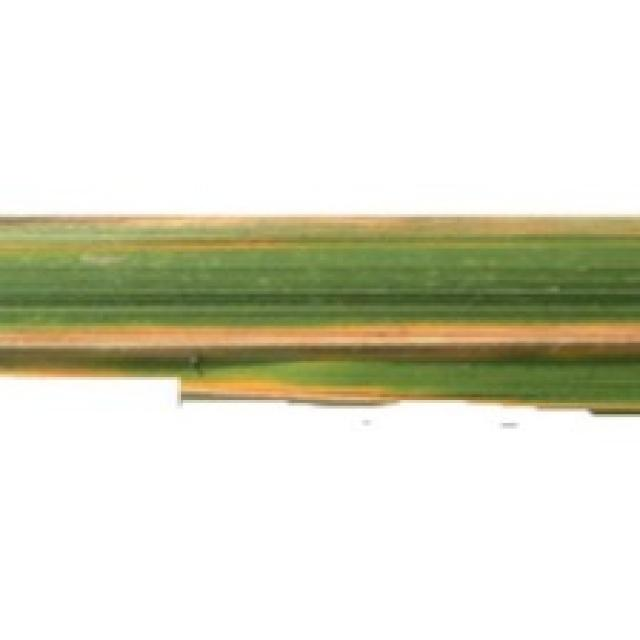Rice___Bacterial_Leaf_Blight: (0, 212, 637, 417)
